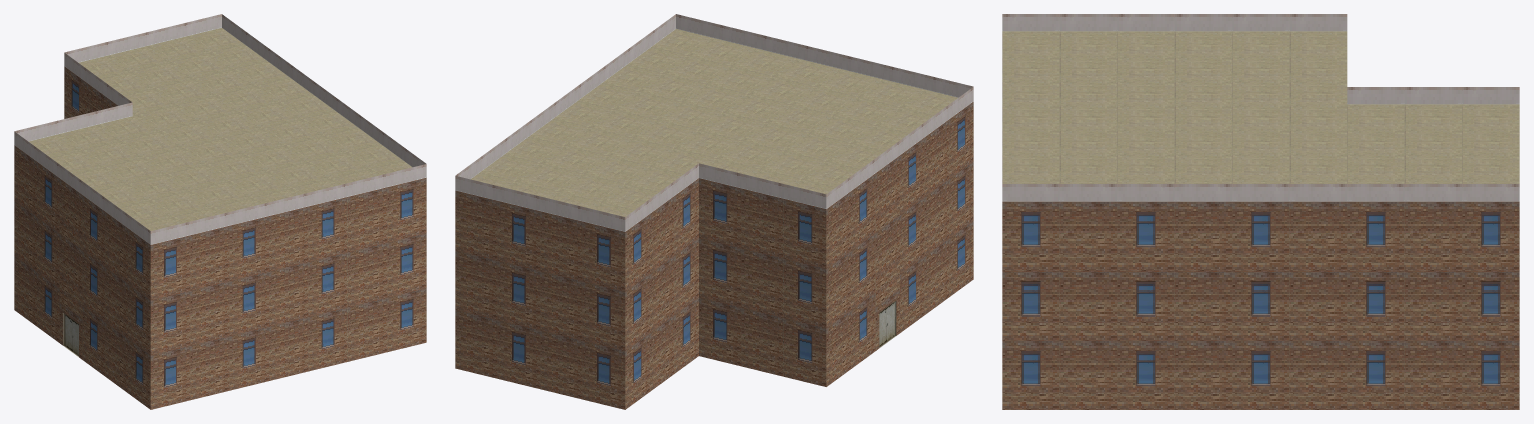
The model's file is bld_flat_d.glb.
3 views of the same model, side by side, from view 1: azimuth 30°, elevation 25°; view 2: azimuth 150°, elevation 25°; view 3: azimuth 270°, elevation 25° (orthographic). The views are drawn at different scales.
Visible parts, largest first — view 1: bld_flat_d; view 2: bld_flat_d; view 3: bld_flat_d.
Part boxes in pixels (x1,y1,x2,y2): bld_flat_d: (14, 14, 426, 409); bld_flat_d: (455, 14, 973, 409); bld_flat_d: (1002, 14, 1519, 409).
Bounding box in the file's own units: 21 × 13 × 27.
1 material, 1 textured.
